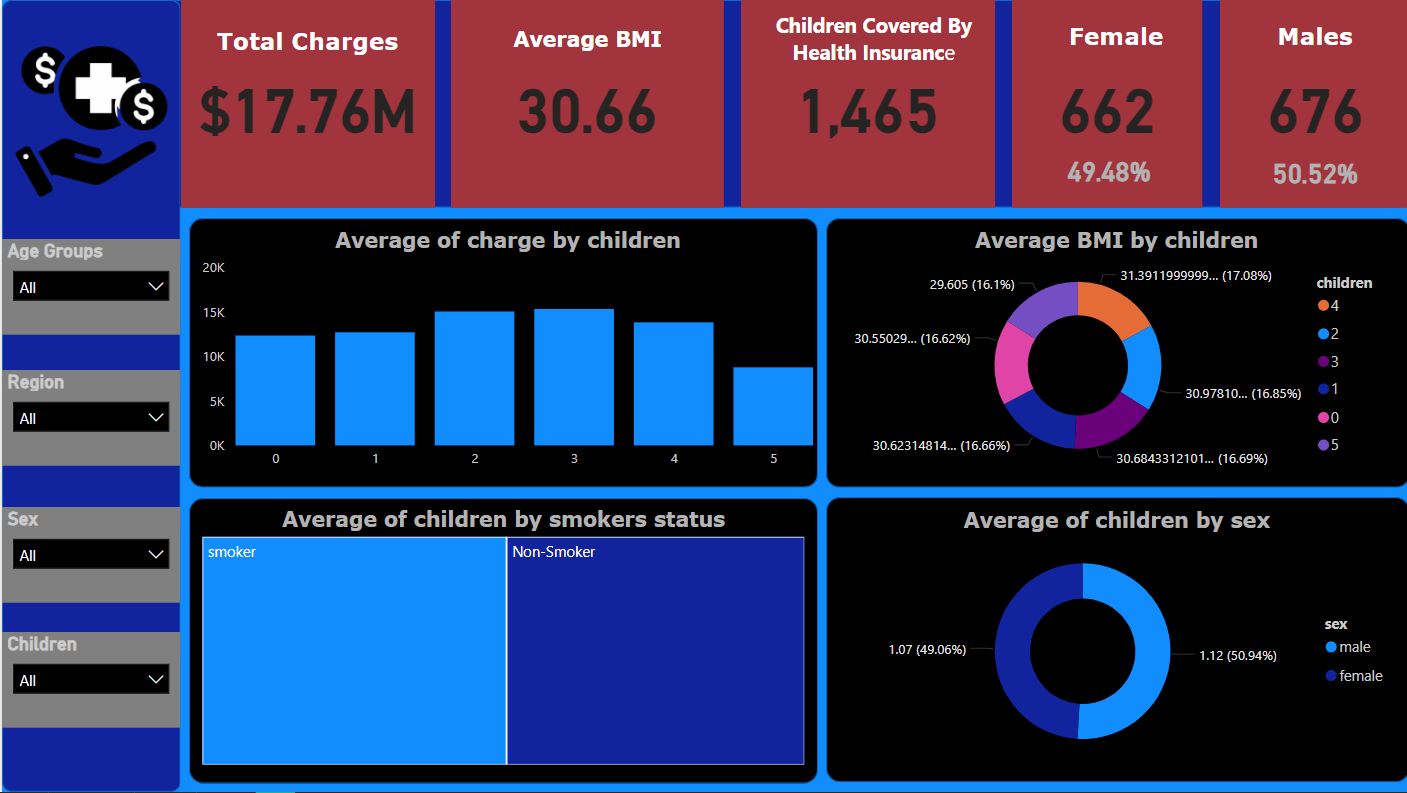

What the dashboard file says about the page in this screenshot:
{"tool":"powerbi","page":{"name":"Children","canvas":[1280,720],"ordinal":1},"visuals":[{"type":"shape","box":[749.2,451.9,530.8,259.4],"z":0,"group":"g1"},{"type":"shape","box":[0,0,1280,188.7],"z":1000,"group":"g1"},{"type":"shape","box":[0,0,162.4,719.8],"z":2000,"group":"g1"},{"type":"card","fields":{"Values":["Measures (2).Total Charges"]},"box":[162.4,0,230.5,188.7],"z":3000,"group":"g1"},{"type":"textbox","box":[162.4,19.5,230.5,43.8],"z":4000,"group":"g1"},{"type":"card","fields":{"Values":["Measures (2).Females"]},"box":[918.2,0,173.1,188.7],"z":5000,"group":"g1"},{"type":"textbox","box":[926,14.6,173.1,48.6],"z":6000,"group":"g1"},{"type":"card","fields":{"Values":["Measures (2).males"]},"box":[1106.9,0,173.1,188.7],"z":7000,"group":"g1"},{"type":"textbox","box":[1106.9,14.6,173.1,48.6],"z":8000,"group":"g1"},{"type":"card","fields":{"Values":["Measures (2).children by insurance"]},"box":[672.1,0,230.5,188.7],"z":9000,"group":"g1"},{"type":"textbox","box":[677,4.9,230.5,72.9],"z":10000,"group":"g1"},{"type":"card","fields":{"Values":["Measures (2).Average BMI"]},"box":[408.5,0,248,188.7],"z":11000,"group":"g1"},{"type":"textbox","box":[408.5,19.5,248,48.6],"z":12000,"group":"g1"},{"type":"card","fields":{"Values":["Measures (2).%Female"]},"box":[923,128.4,167.3,53.5],"z":13000,"group":"g1"},{"type":"card","fields":{"Values":["Measures (2).%male"]},"box":[1109.8,130.3,167.3,53.5],"z":14000,"group":"g1"},{"type":"shape","box":[170.2,198.4,571.9,245.1],"z":15000,"group":"g1"},{"type":"slicer","title":"Age Groups","fields":{"Values":["insurance.Age_Group"]},"box":[0,216.9,162.4,86.6],"z":16000,"group":"g1"},{"type":"slicer","title":"Region","fields":{"Values":["insurance.region"]},"box":[0,336.5,162.4,86.6],"z":17000,"group":"g1"},{"type":"slicer","title":"Sex","fields":{"Values":["insurance.sex"]},"box":[0,461,162.4,86.6],"z":18000,"group":"g1"},{"type":"slicer","title":"Children","fields":{"Values":["insurance.children"]},"box":[0,574.8,162.4,86.6],"z":19000,"group":"g1"},{"type":"columnChart","title":"Average of charge by children","fields":{"Y":["Avg(insurance.charges)"],"Category":["insurance.children"]},"box":[177,206.2,565.1,228.6],"z":20000,"group":"g1"},{"type":"shape","box":[748.9,198.4,531.1,245.1],"z":21000,"group":"g1"},{"type":"donutChart","title":"Average BMI by children","fields":{"Y":["Avg(insurance.bmi)"],"Category":["insurance.children"]},"box":[756.7,206.2,513.6,228.6],"z":22000,"group":"g1"},{"type":"shape","box":[170.2,452.3,571.9,259.7],"z":23000,"group":"g1"},{"type":"treemap","fields":{"Group":["insurance.smokers status"],"Values":["Avg(insurance.children)"]},"box":[177,460.1,557.3,240.2],"z":24000,"group":"g1"},{"type":"donutChart","fields":{"Category":["insurance.sex"],"Y":["Avg(insurance.children)"]},"box":[757.3,461.1,512.2,239.3],"z":25001,"group":"g1"},{"type":"image","box":[0,31.8,162.7,157.3],"z":25002,"group":"g1"},{"type":"group","id":"g1","title":"Group 1","box":[0,0,1280,719.8],"z":25003}]}

Visuals, with their boxes in screenshot pixels (x1, y1, x2, y2), scaled from the page's 1280x720 canvas onto the 1407x793 screenshot:
shape: box(824, 498, 1406, 783)
shape: box(0, 0, 1406, 208)
shape: box(0, 0, 179, 792)
card - Measures (2).Total Charges: box(179, 0, 432, 208)
textbox: box(179, 21, 432, 70)
card - Measures (2).Females: box(1009, 0, 1200, 208)
textbox: box(1018, 16, 1208, 70)
card - Measures (2).males: box(1217, 0, 1406, 208)
textbox: box(1217, 16, 1406, 70)
card - Measures (2).children by insurance: box(739, 0, 992, 208)
textbox: box(744, 5, 998, 86)
card - Measures (2).Average BMI: box(449, 0, 722, 208)
textbox: box(449, 21, 722, 75)
card - Measures (2).%Female: box(1015, 141, 1198, 200)
card - Measures (2).%male: box(1220, 144, 1404, 202)
shape: box(187, 219, 816, 488)
"Age Groups" slicer: box(0, 239, 179, 334)
"Region" slicer: box(0, 371, 179, 466)
"Sex" slicer: box(0, 508, 179, 603)
"Children" slicer: box(0, 633, 179, 728)
"Average of charge by children" columnChart: box(195, 227, 816, 479)
shape: box(823, 219, 1406, 488)
"Average BMI by children" donutChart: box(832, 227, 1396, 479)
shape: box(187, 498, 816, 784)
treemap - insurance.smokers status x Avg(insurance.children): box(195, 507, 807, 771)
donutChart - insurance.sex x Avg(insurance.children): box(832, 508, 1395, 771)
image: box(0, 35, 179, 208)
"Group 1" group: box(0, 0, 1406, 792)
